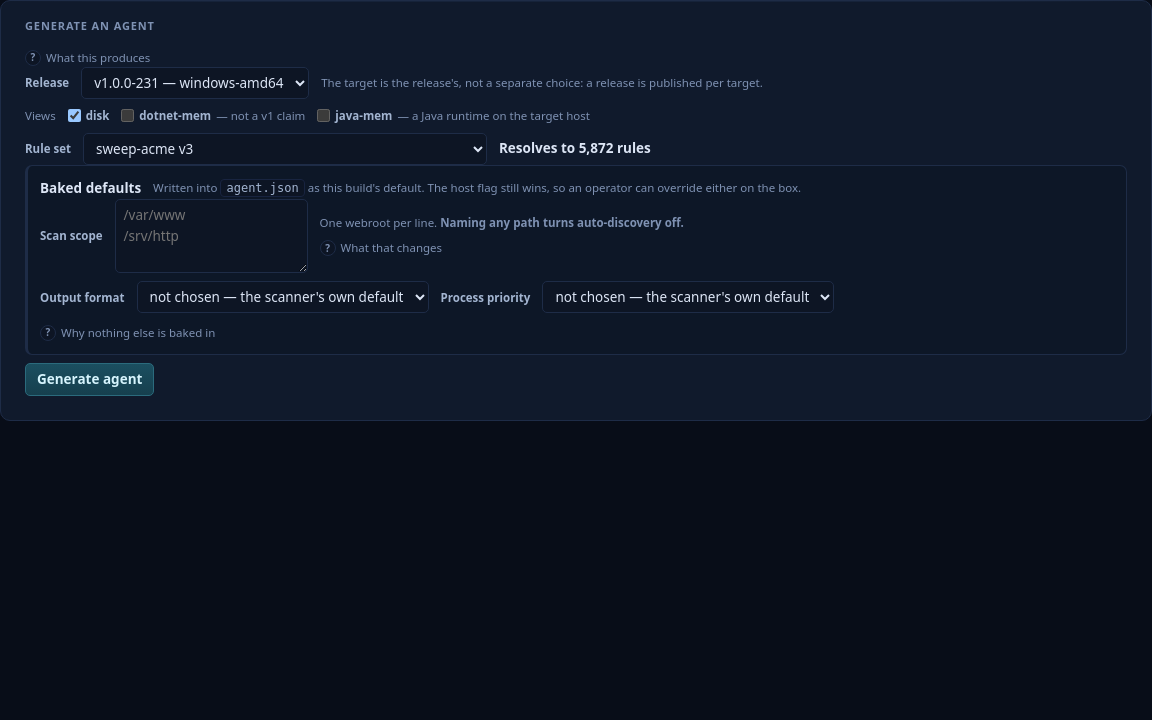
Test: generating posts the selection and then offers the download
This screenshot has width=1152, height=720.
Expected: the text "Resolves to 5,872 rules" is shown, [499, 138, 651, 159]
Click the button "Generate agent" at (90, 380), box [25, 363, 154, 396]
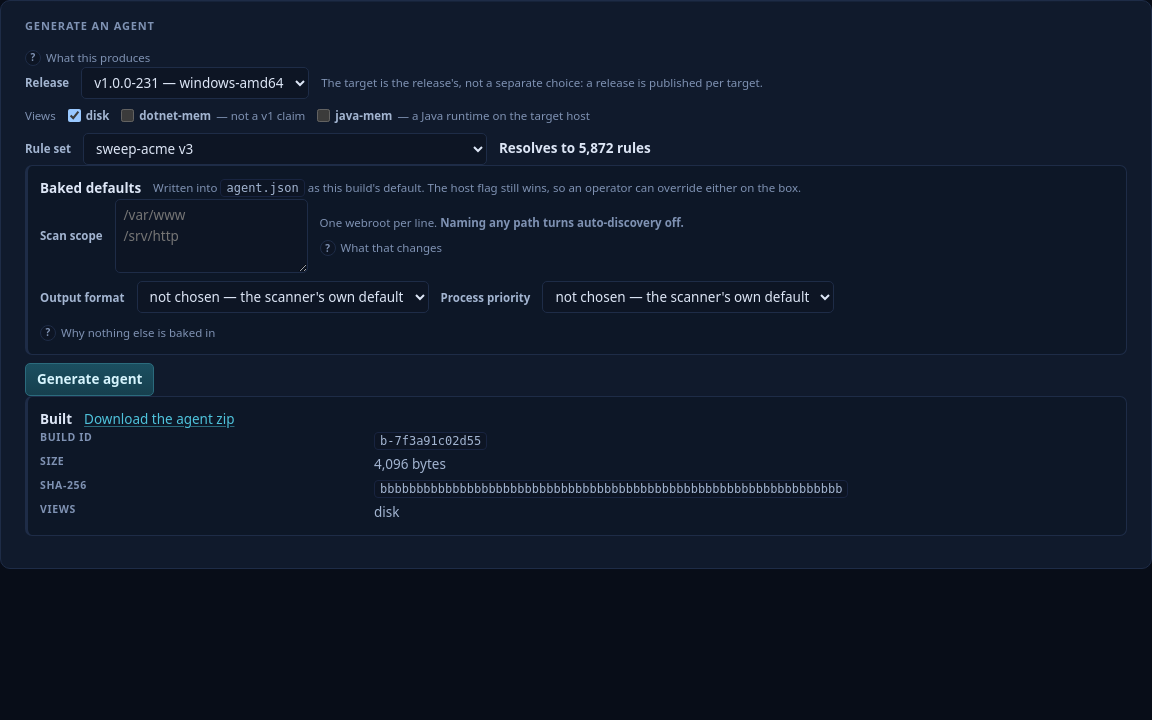
Now the text "b-7f3a91c02d55" is shown, box [374, 432, 487, 450]
Now the text "4,096 bytes" is shown, box [374, 455, 446, 473]
